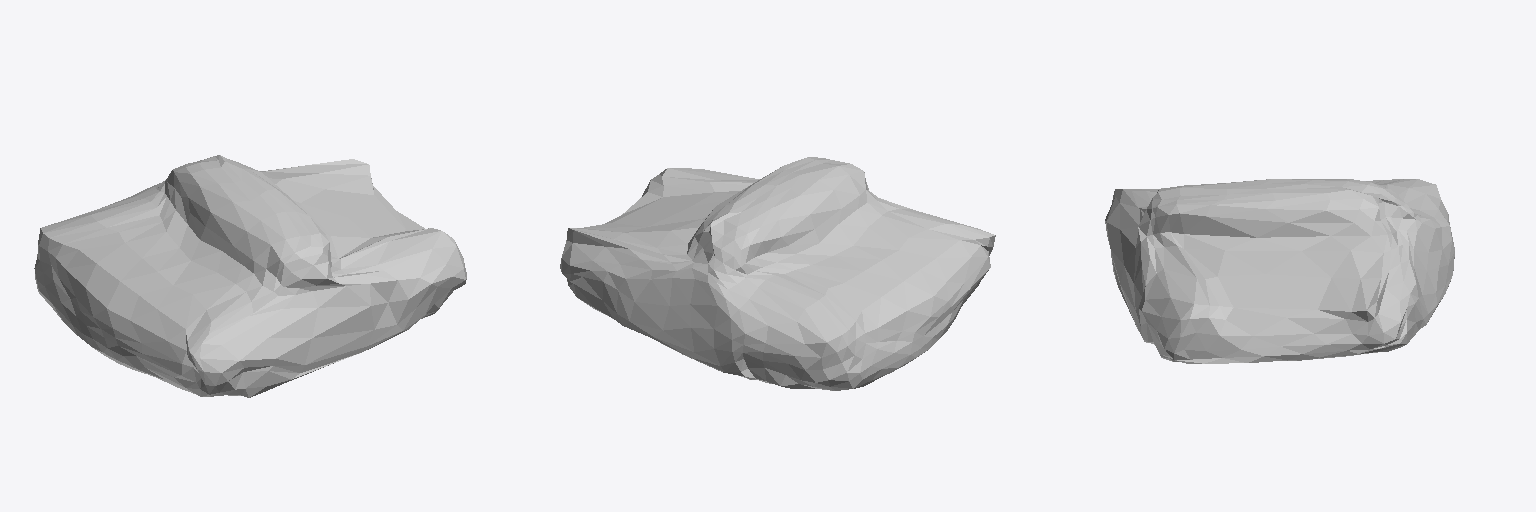
File: video3_200.obj
The picture shows the model from 3 angles: view 1: azimuth 30°, elevation 25°; view 2: azimuth 150°, elevation 25°; view 3: azimuth 270°, elevation 25°; orthographic projection.
Size of the model in its own units: 1 by 0.3966 by 0.9248.